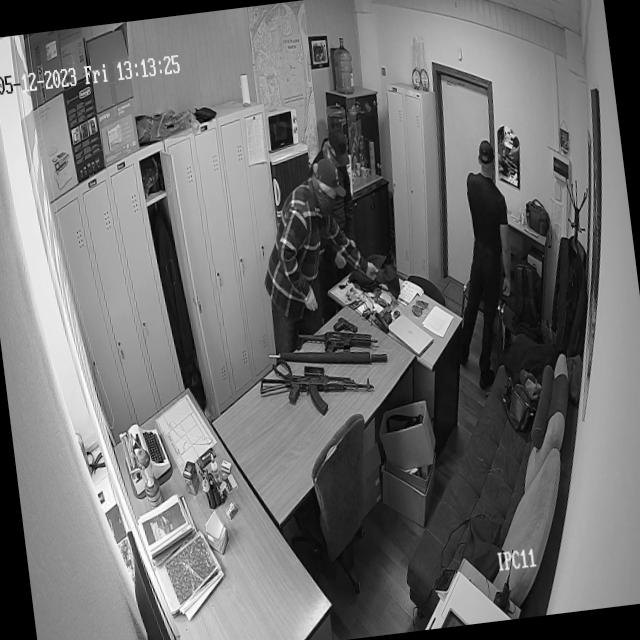gun: (256, 366, 378, 426), (294, 324, 382, 353), (332, 309, 358, 336)
person: (249, 152, 382, 317), (442, 136, 522, 330), (309, 124, 360, 233)
